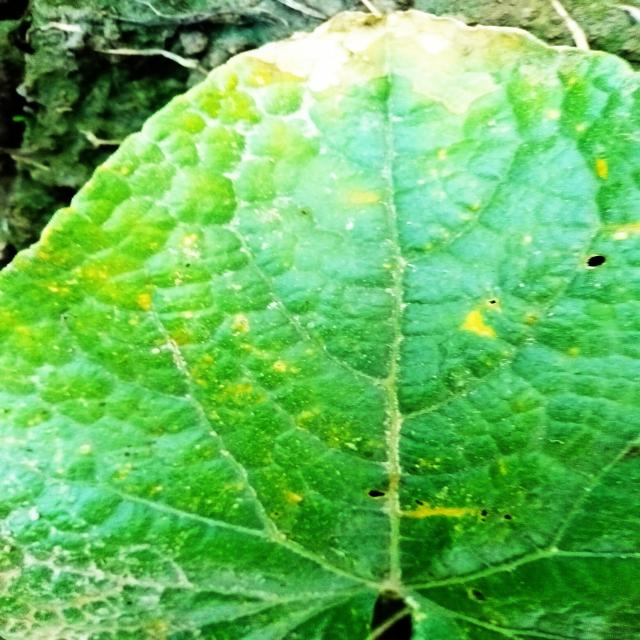Downy-Mildew: (0, 32, 640, 640)
